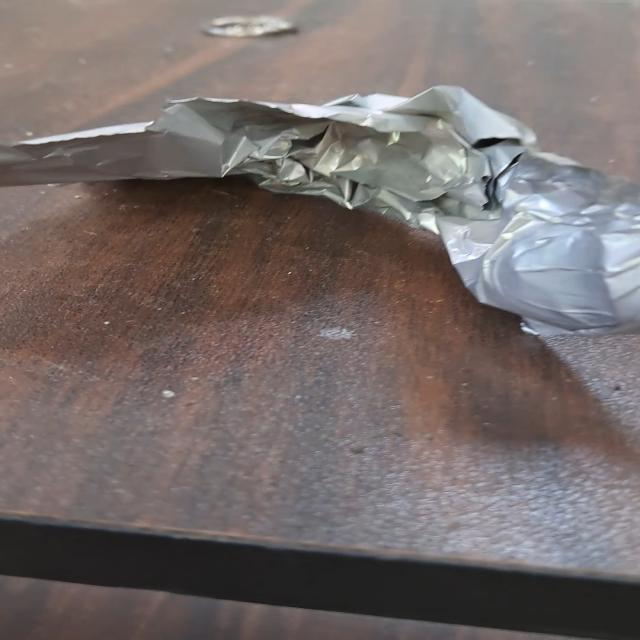Anorganik: (0, 76, 640, 346)
